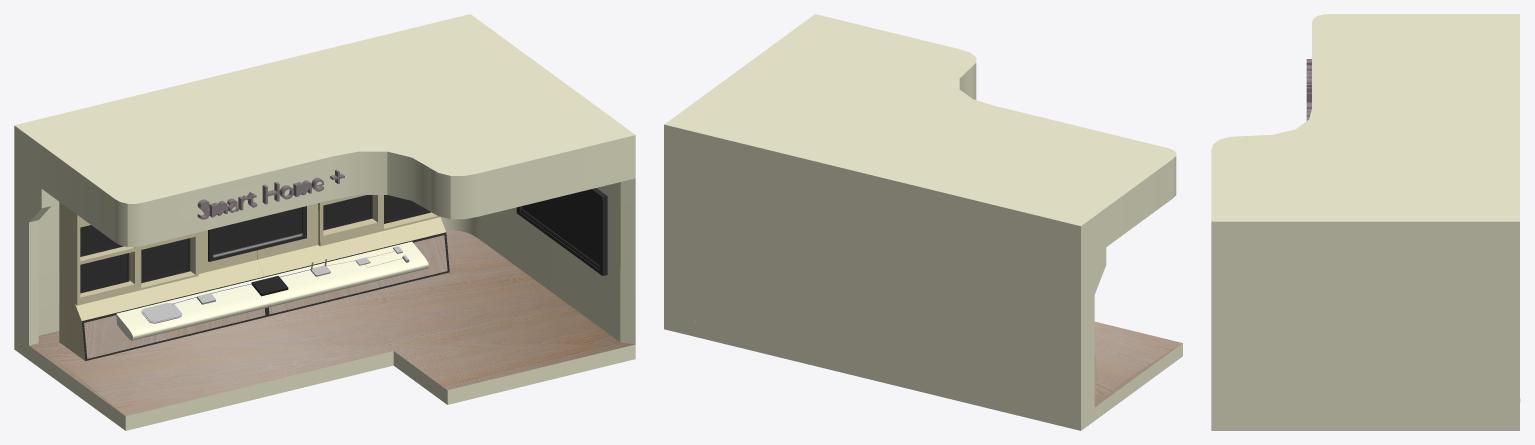
The model's file is Smarthome .fbx.
3 views of the same model, side by side, from view 1: azimuth 30°, elevation 25°; view 2: azimuth 150°, elevation 25°; view 3: azimuth 270°, elevation 25° (orthographic). The views are drawn at different scales.
Visible parts, largest first — view 1: Plane.001, Cube, Cube.001, Cube.019, Cube.002, Cube.006, Cube.005, Cube.008, Cube.007, Cube.004, Cube.022; view 2: Plane.001; view 3: Plane.001.
Boxes of the visible parts, bbox=[...] form: Plane.001: bbox=[14, 14, 635, 430]; Cube: bbox=[59, 195, 449, 360]; Cube.001: bbox=[116, 241, 428, 340]; Cube.019: bbox=[516, 188, 607, 275]; Cube.002: bbox=[208, 206, 306, 261]; Cube.006: bbox=[141, 238, 190, 283]; Cube.005: bbox=[80, 253, 129, 293]; Cube.008: bbox=[323, 195, 372, 230]; Cube.007: bbox=[384, 195, 431, 223]; Cube.004: bbox=[80, 225, 123, 256]; Cube.022: bbox=[141, 303, 182, 323]; Plane.001: bbox=[664, 14, 1182, 430]; Plane.001: bbox=[1211, 14, 1520, 430].
Bounding box in the file's own units: 653 × 306 × 410.
Materials: 11 (1 with a texture image).
